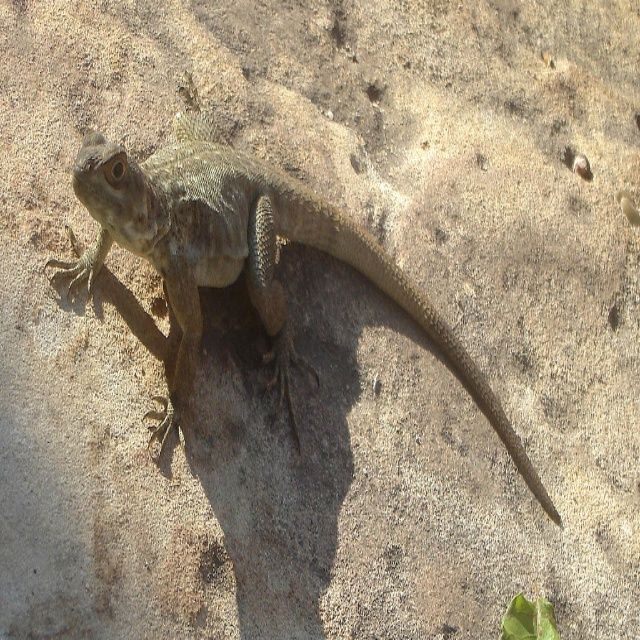Lizard: (84, 104, 537, 536)
